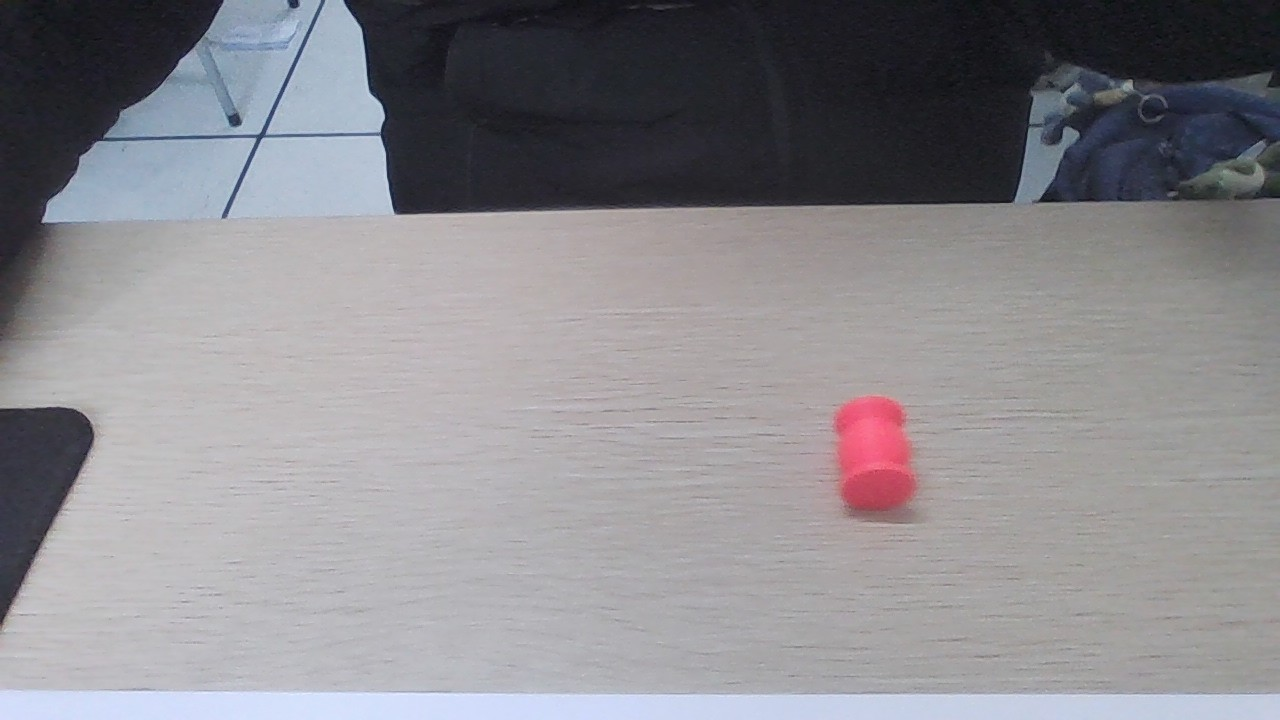KHS-plastic: (826, 393, 922, 506)
